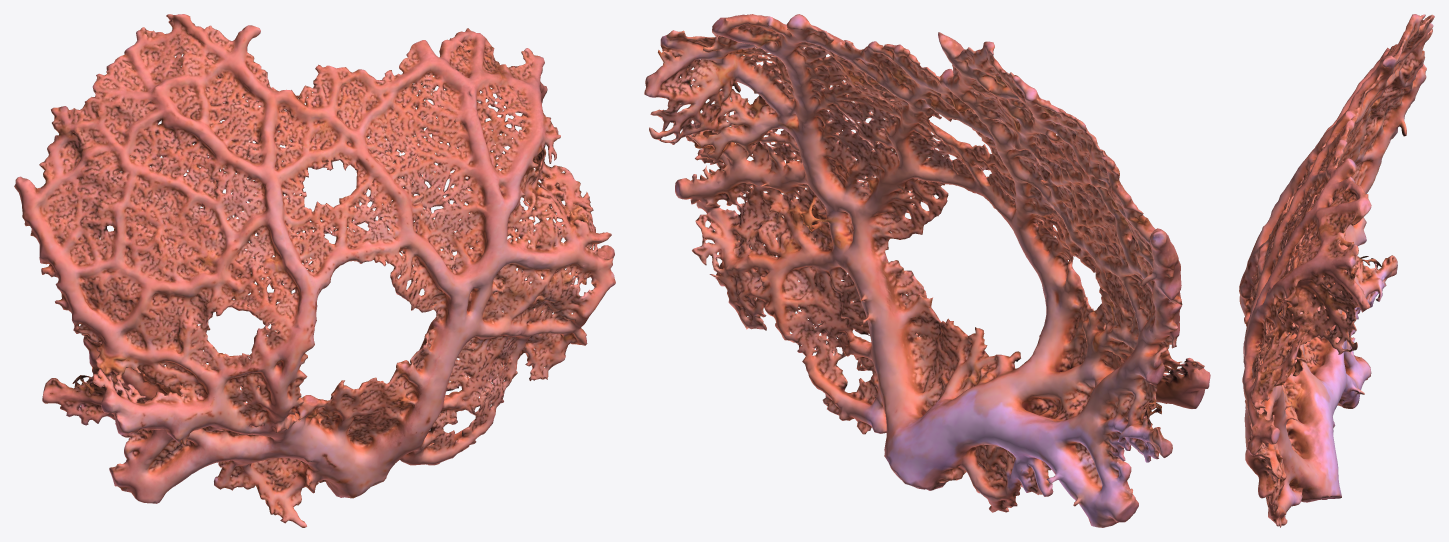
Rendered from Stylaster alaskanus peach.fbx.
3 views of the same model, side by side, from view 1: azimuth 30°, elevation 25°; view 2: azimuth 150°, elevation 25°; view 3: azimuth 270°, elevation 25° (orthographic). The views are drawn at different scales.
Parts seen in each view (by area): view 1: Mesh_0; view 2: Mesh_0; view 3: Mesh_0.
Part boxes in pixels (x1=…): Mesh_0: x1=14, y1=14, x2=615, y2=527; Mesh_0: x1=644, y1=14, x2=1210, y2=527; Mesh_0: x1=1239, y1=14, x2=1434, y2=527.
Bounding box in the file's own units: 776 × 685 × 266.
1 material, 1 textured.
